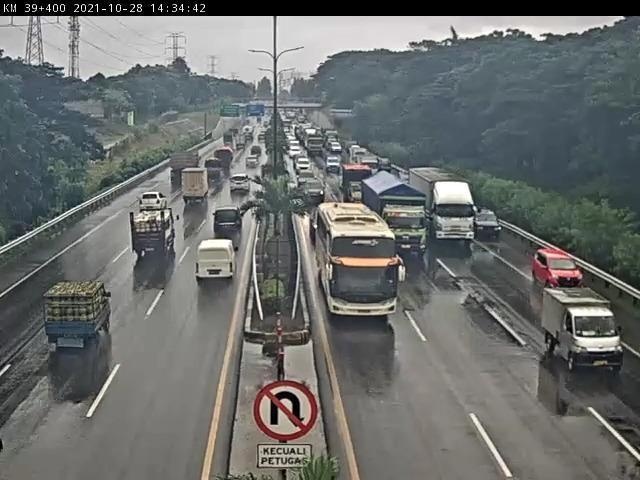Bus: (313, 195, 403, 318)
